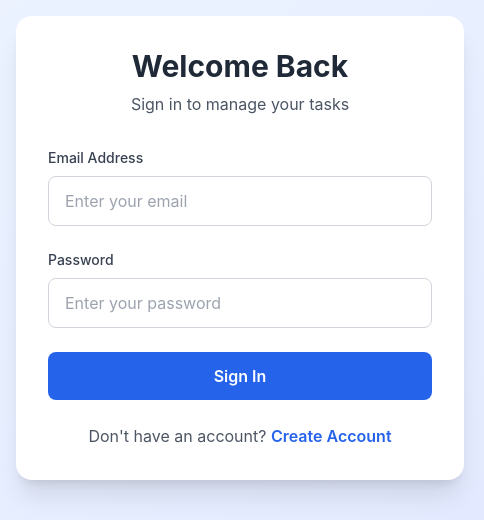
Test: Login Component › shows loading state during submission
Type "test@example.com" into the field with test id "email-input" at (240, 201), box [48, 176, 432, 226]
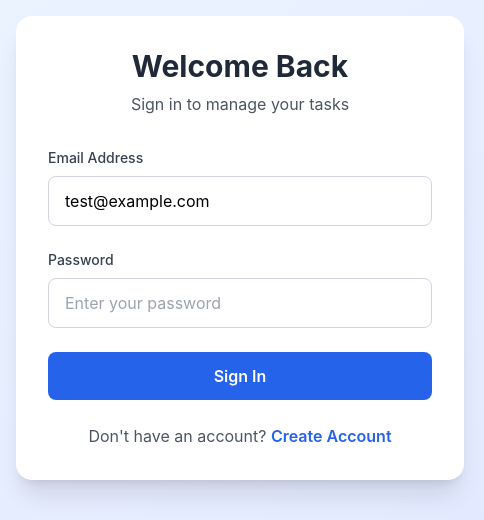
Type "password123" into the password field with test id "password-input" at (240, 303), box [48, 278, 432, 328]
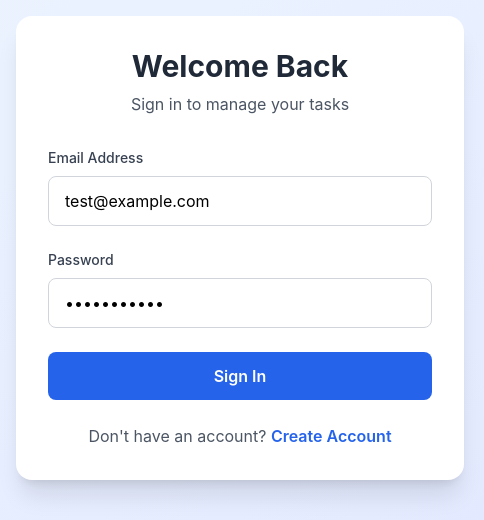
Click the button with test id "login-button" at (240, 376), box [48, 352, 432, 400]
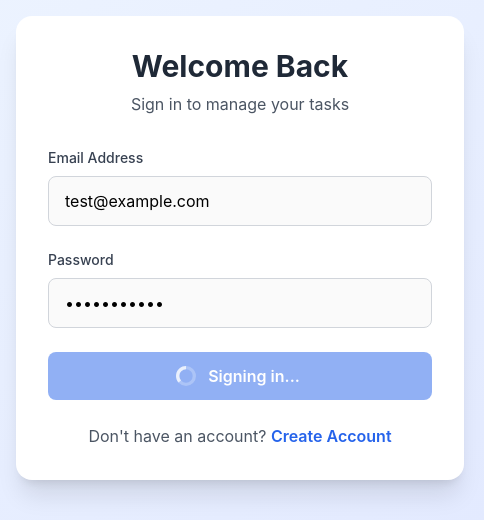
Expected: the field with test id "email-input" is disabled, [48, 176, 432, 226]
Expected: the button with test id "login-button" is disabled, [48, 352, 432, 400]
